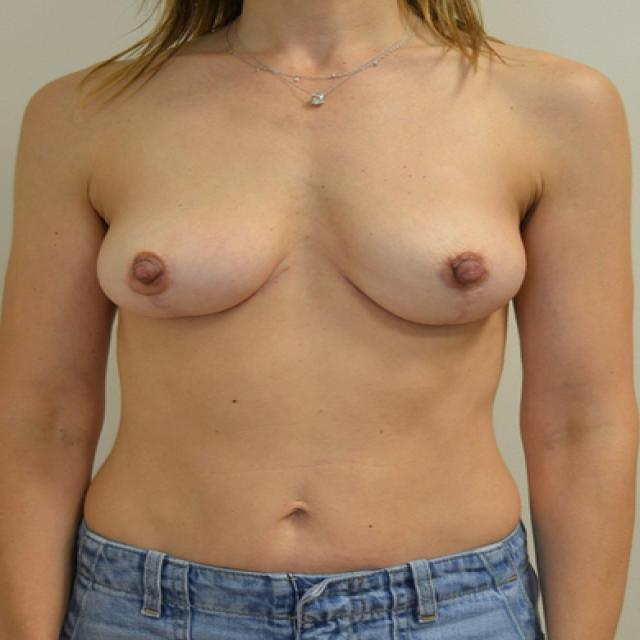Seno herido: (320, 184, 534, 338), (89, 179, 297, 330)
